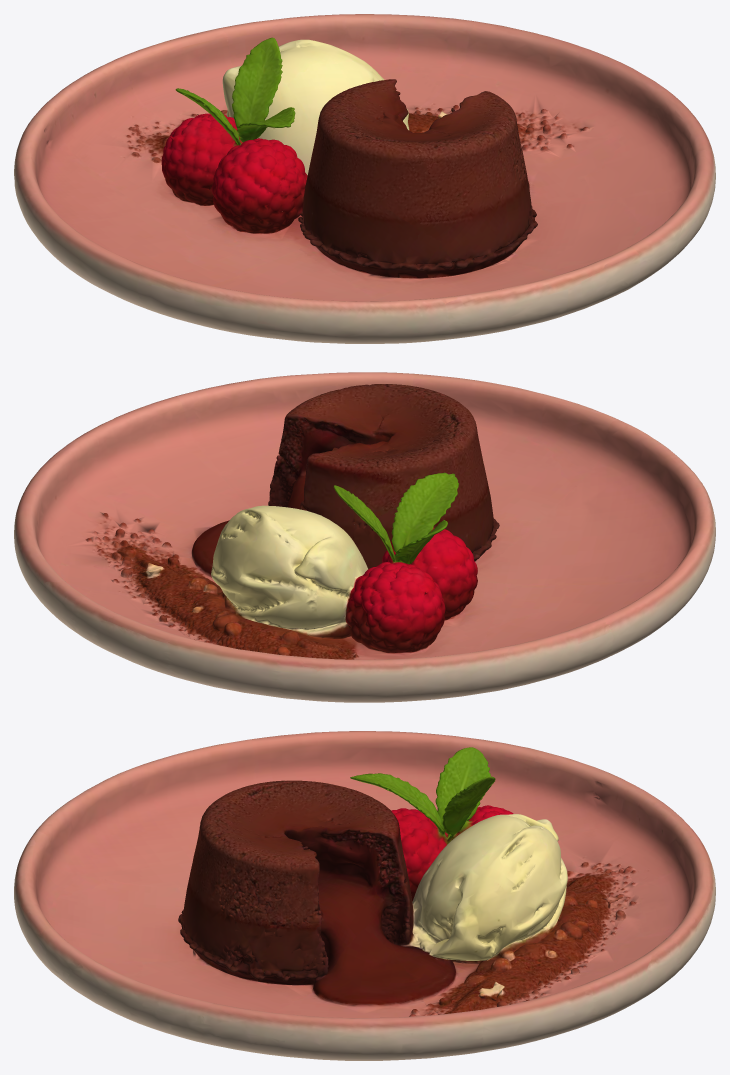
Rendered from dark-chocolate-fondant.glb.
The picture shows the model from 3 angles, top to bottom: view 1: azimuth 30°, elevation 25°; view 2: azimuth 150°, elevation 25°; view 3: azimuth 270°, elevation 25°; orthographic projection.
Visible parts, largest first — view 1: tripo_node_da204575-9880-4e83-ab42-264f3d96f184; view 2: tripo_node_da204575-9880-4e83-ab42-264f3d96f184; view 3: tripo_node_da204575-9880-4e83-ab42-264f3d96f184.
Part boxes in pixels (x1,y1,x2,y2): tripo_node_da204575-9880-4e83-ab42-264f3d96f184: (14,14,715,343); tripo_node_da204575-9880-4e83-ab42-264f3d96f184: (14,372,715,702); tripo_node_da204575-9880-4e83-ab42-264f3d96f184: (14,731,715,1060).
Size of the model in its own units: 0.9798 by 0.239 by 0.9794.
Materials: 1 (1 with a texture image).
